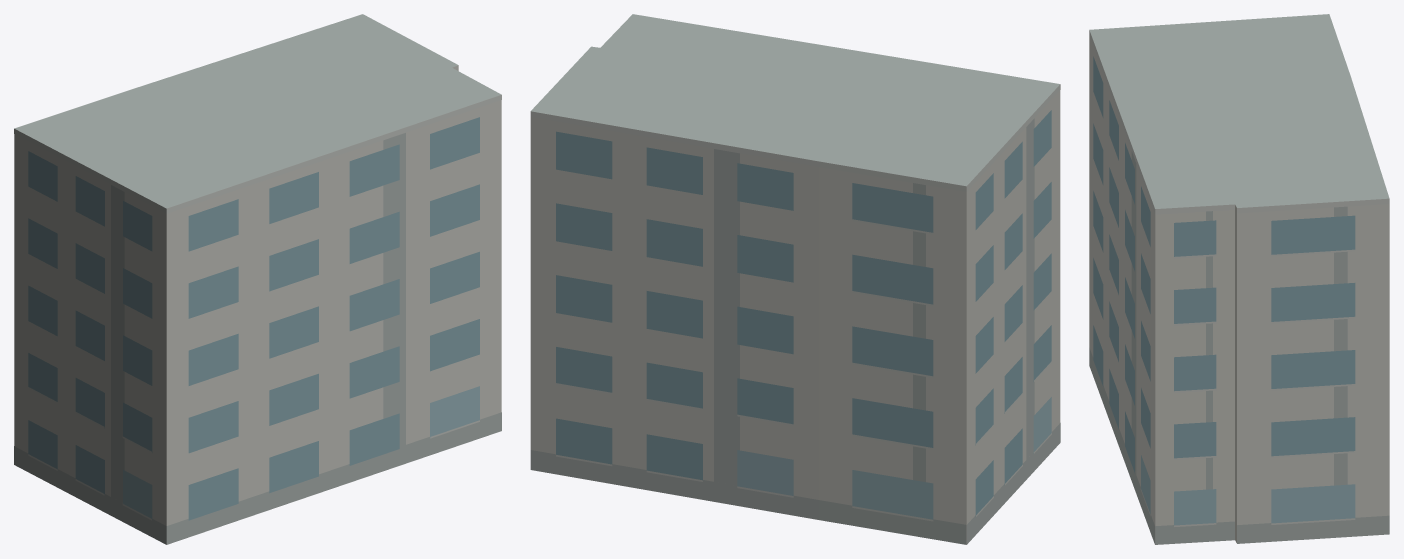
File: survey-upis-32515195.glb
The picture shows the model from 3 angles, left to right: view 1: azimuth 30°, elevation 25°; view 2: azimuth 150°, elevation 25°; view 3: azimuth 270°, elevation 25°; orthographic projection. The views are drawn at different scales.
Visible parts, largest first — view 1: survey-upis-32515195.tmp; view 2: survey-upis-32515195.tmp; view 3: survey-upis-32515195.tmp.
Part boxes in pixels (x1,y1,x2,y2): survey-upis-32515195.tmp: (14, 14, 501, 544); survey-upis-32515195.tmp: (530, 14, 1060, 544); survey-upis-32515195.tmp: (1089, 14, 1389, 544).
Size of the model in its own units: 19.01 by 15.25 by 12.37.
